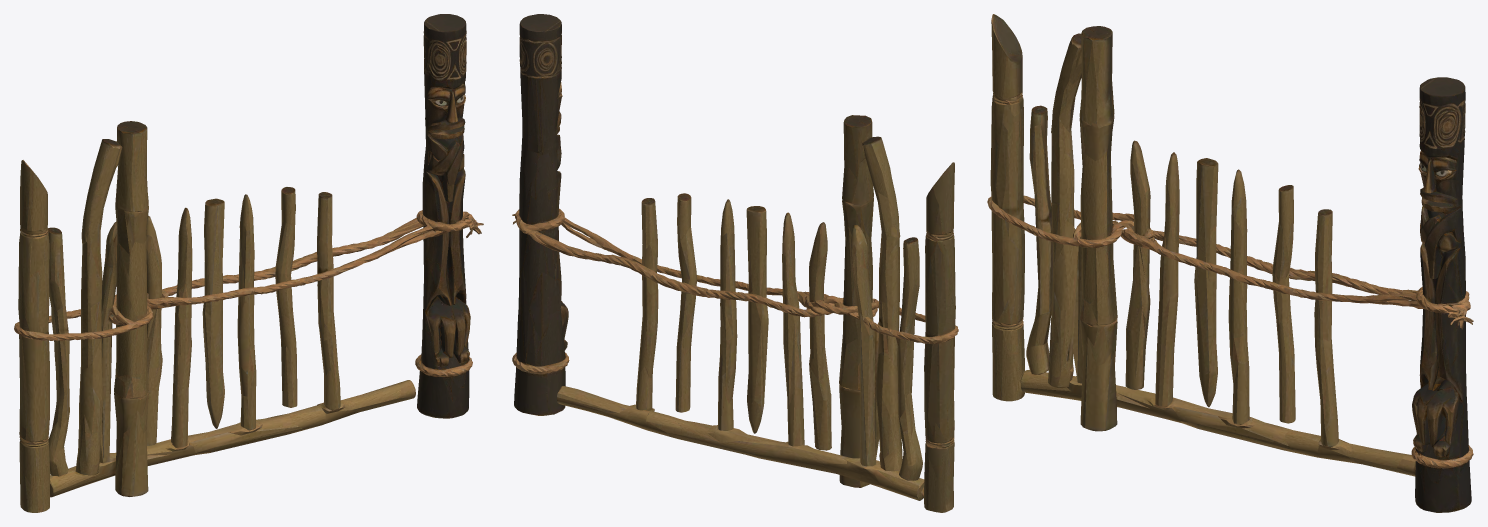
The model's file is palisade.glb.
3 renders of one model, left to right at view 1: azimuth 30°, elevation 25°; view 2: azimuth 150°, elevation 25°; view 3: azimuth 330°, elevation 25°, orthographic. The views are drawn at different scales.
Visible parts, largest first — view 1: mesh_node; view 2: mesh_node; view 3: mesh_node.
Boxes of the visible parts, x1,y1,x2,y2 form: mesh_node: [14, 14, 483, 512]; mesh_node: [512, 14, 958, 512]; mesh_node: [987, 14, 1473, 512].
Size of the model in its own units: 1.9 by 1.55 by 0.227.
Materials: 1 (1 with a texture image).
